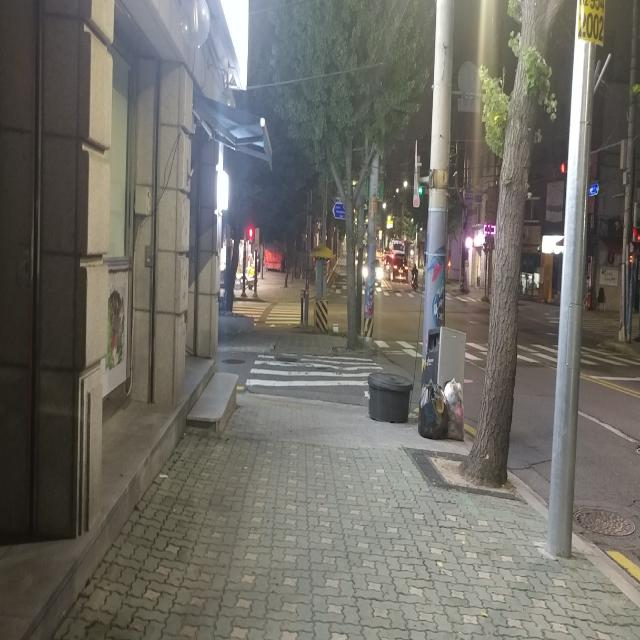빨간불: (248, 227, 254, 250)
횡단보도: (378, 340, 638, 366), (245, 352, 388, 388)
